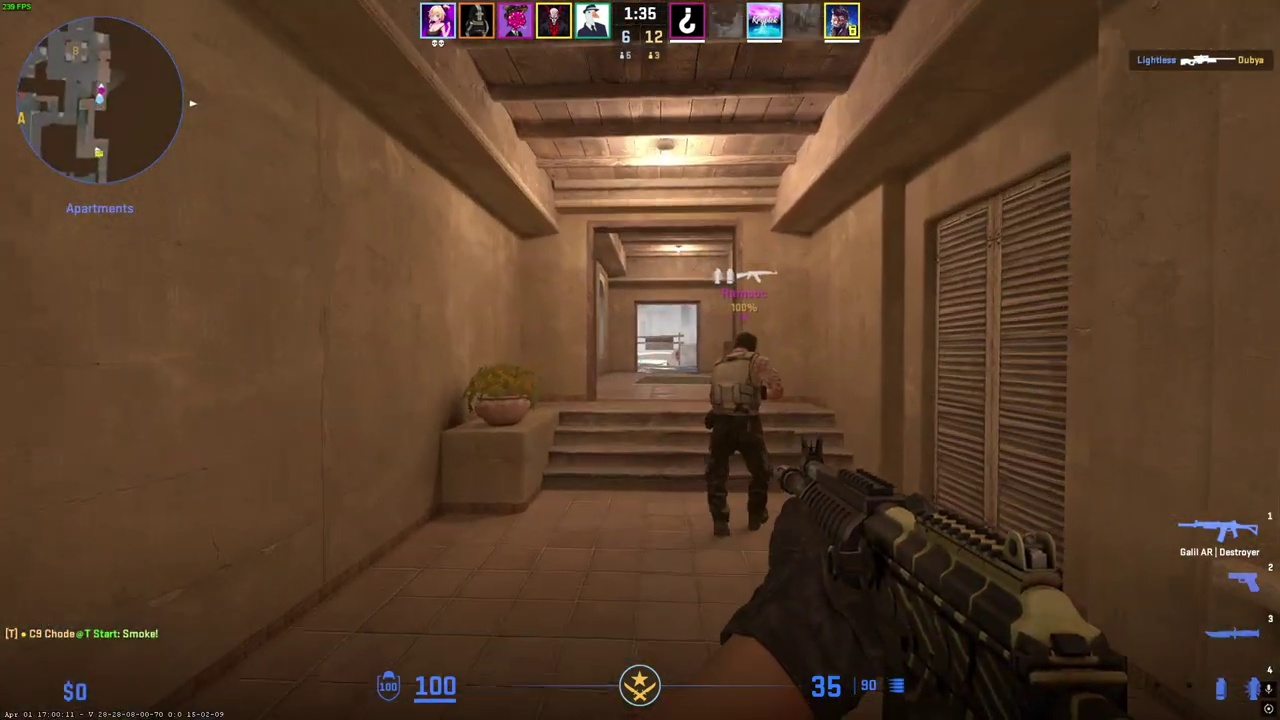Terrorist: (705, 332, 779, 537)
